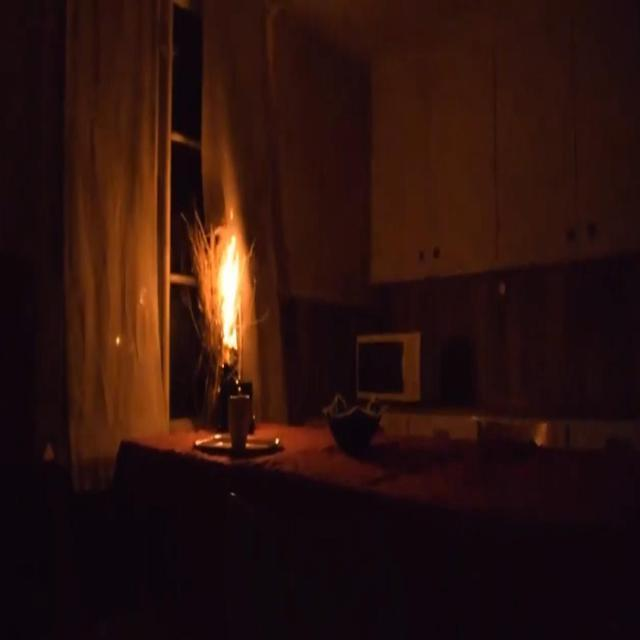smoke: (214, 198, 252, 352)
